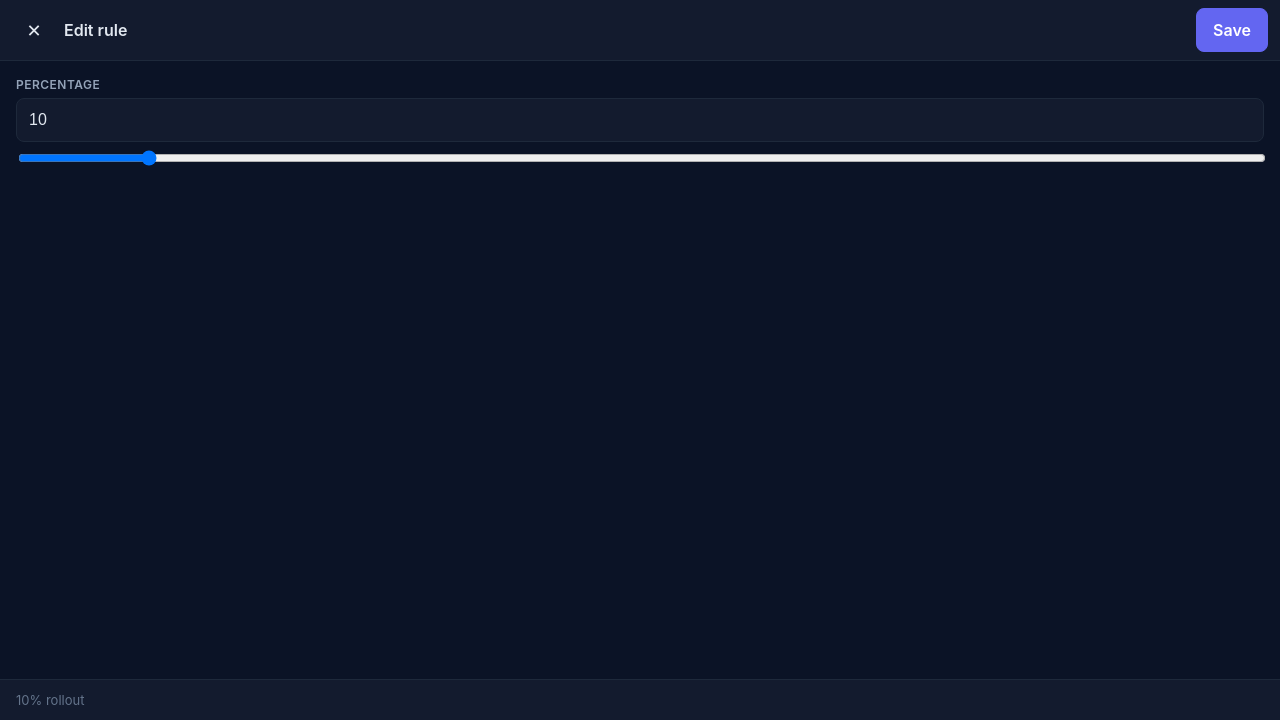
Test: RuleEditSheet › on a 500 response, sheet stays open and renders error inline
This screenshot has width=1280, height=720.
Replace the text in the number field labelled "Percentage" with "50" at (640, 120), box x1=16 y1=98 x2=1264 y2=142
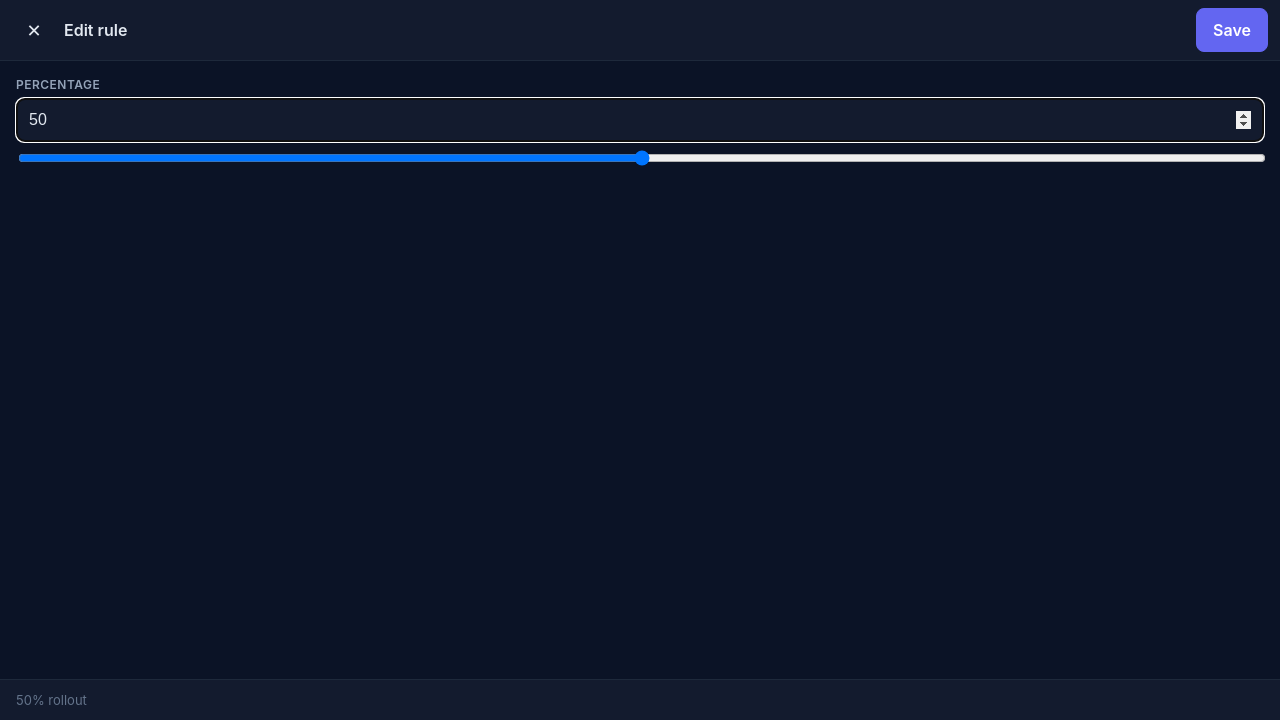
Click the button "Save" at (1232, 30), box x1=1196 y1=8 x2=1268 y2=52
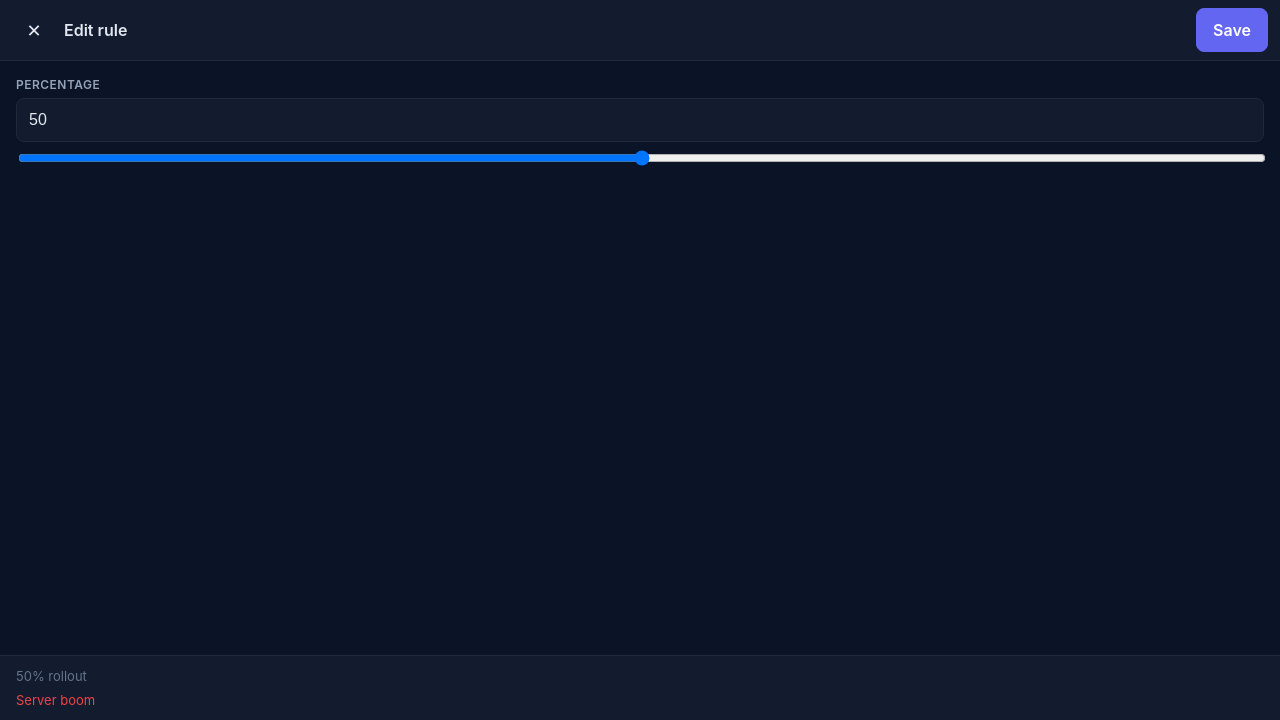
Expected: the message reads "Server boom", x1=16 y1=692 x2=95 y2=708
